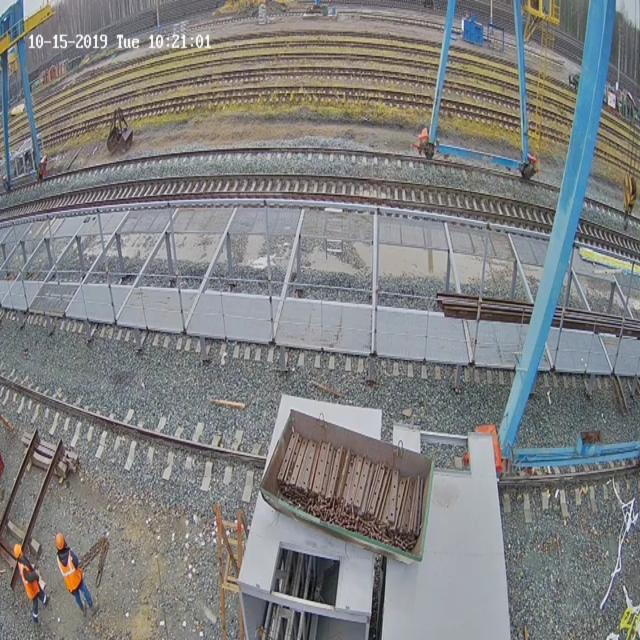Helmet: (56, 532, 64, 550), (14, 543, 22, 559)
Person: (55, 532, 96, 618), (13, 542, 49, 624)
